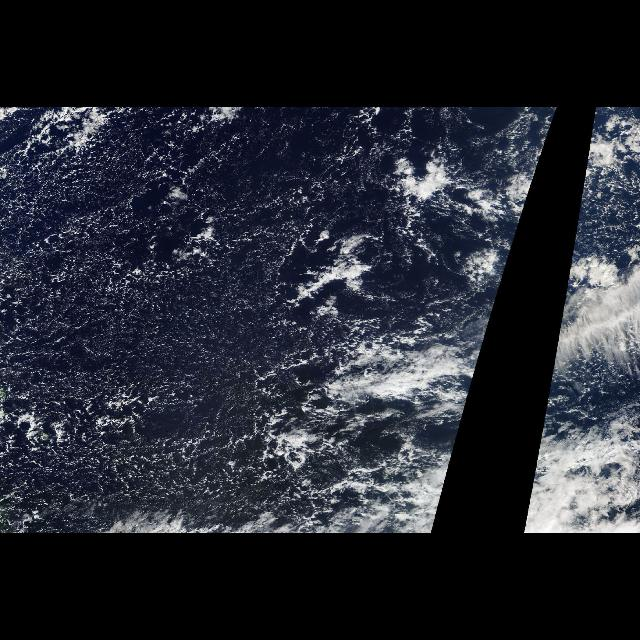Fish: (544, 257, 632, 407), (455, 257, 509, 407)
Gravel: (1, 108, 320, 520)
